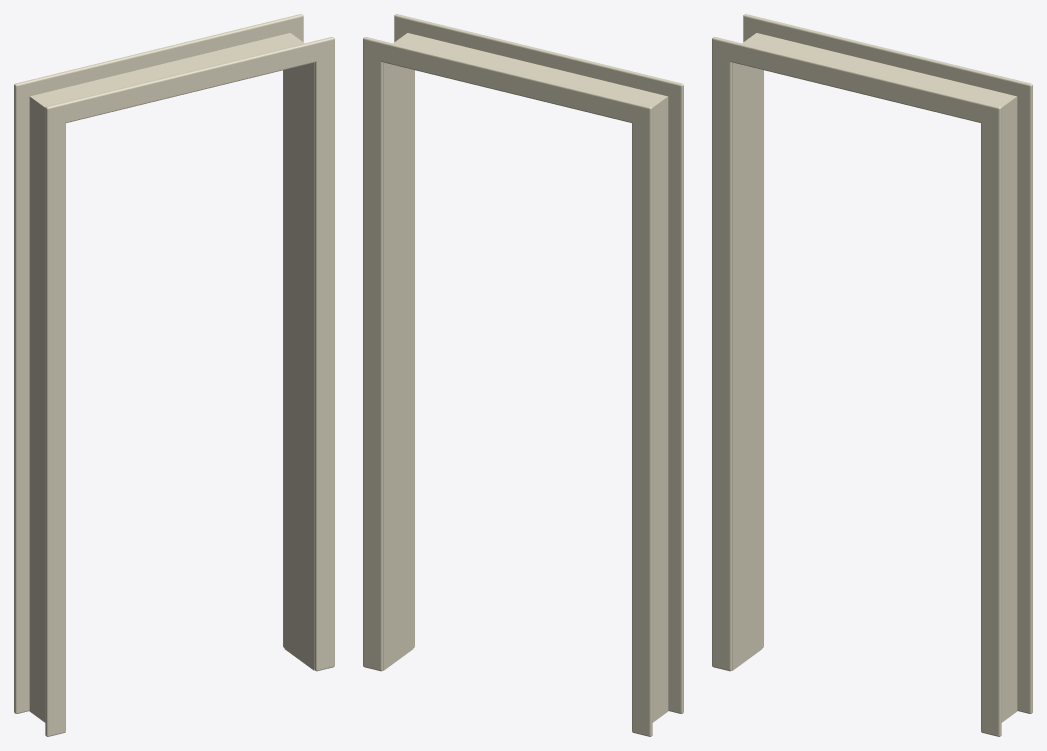
Rendered from door_frame.glb.
3 views of the same model, side by side, from view 1: azimuth 30°, elevation 25°; view 2: azimuth 150°, elevation 25°; view 3: azimuth 330°, elevation 25° (orthographic).
Visible parts, largest first — view 1: DoorFrame; view 2: DoorFrame; view 3: DoorFrame.
Boxes of the visible parts, bbox=[...] form: DoorFrame: bbox=[14, 14, 334, 736]; DoorFrame: bbox=[363, 14, 683, 736]; DoorFrame: bbox=[712, 14, 1032, 736].
Size of the model in its own units: 1.04 by 2.17 by 0.21.
